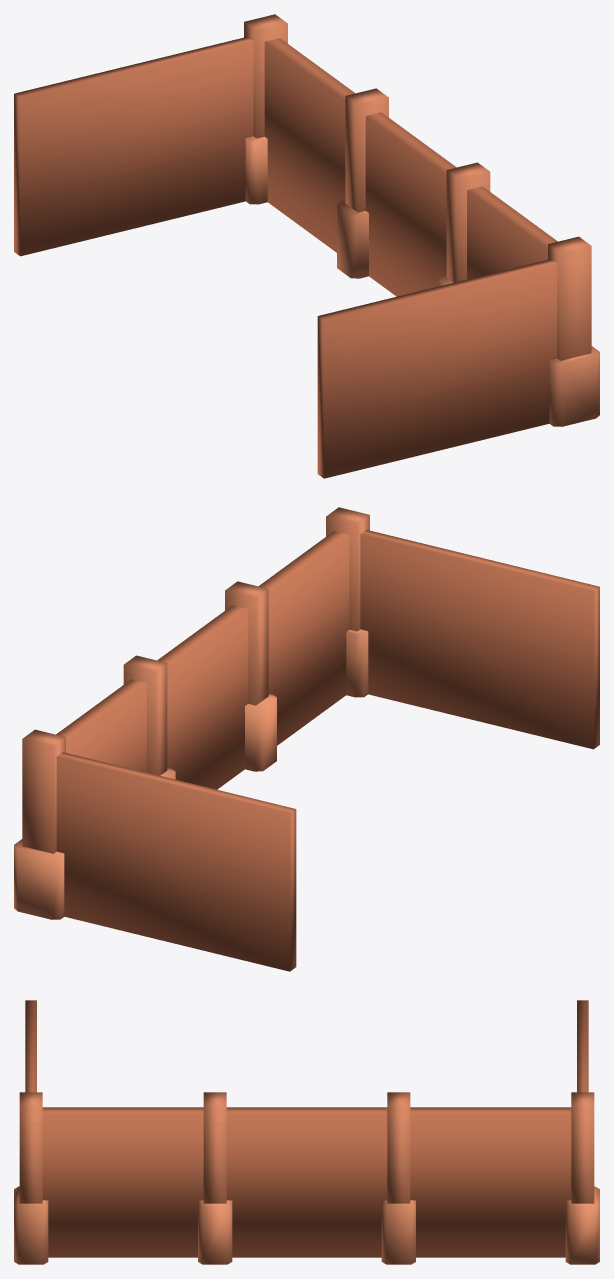
The model's file is n1_fence-1x3_lev1.glb.
3 views of the same model, one above another, from view 1: azimuth 30°, elevation 25°; view 2: azimuth 150°, elevation 25°; view 3: azimuth 270°, elevation 25° (orthographic). The views are drawn at different scales.
Visible parts, largest first — view 1: n1_fence-1x3_lev1; view 2: n1_fence-1x3_lev1; view 3: n1_fence-1x3_lev1.
Boxes of the visible parts, <box> form: n1_fence-1x3_lev1: <box>14,14,599,478</box>; n1_fence-1x3_lev1: <box>14,507,599,971</box>; n1_fence-1x3_lev1: <box>14,1000,599,1264</box>.
Size of the model in its own units: 3.39 by 2.03 by 6.96.
1 material, 1 textured.
